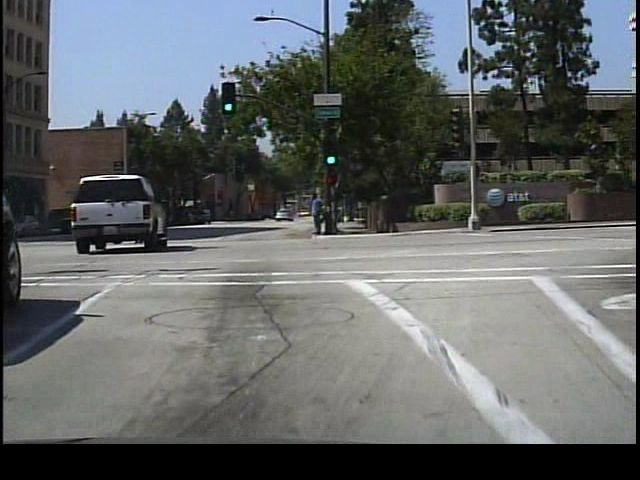person: (306, 187, 327, 236), (315, 192, 332, 235)
